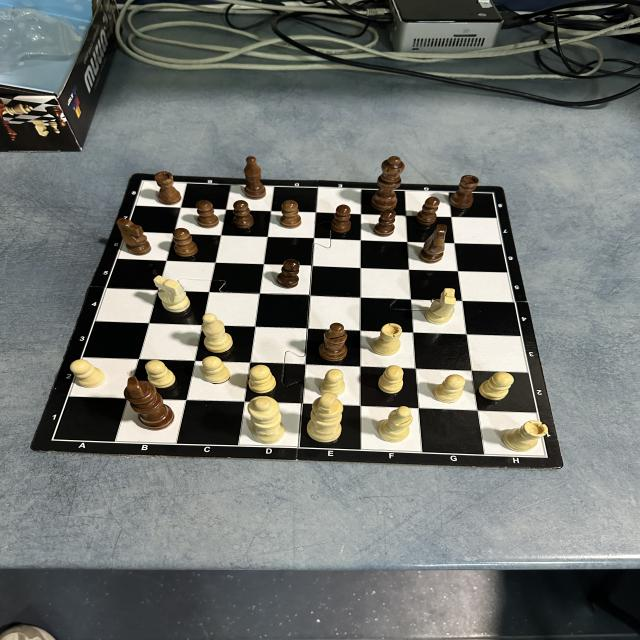Black-Bishop: (318, 322, 348, 362), (244, 156, 267, 200)
Black-King: (124, 376, 175, 431)
Black-Knight: (116, 218, 152, 255), (418, 224, 448, 264)
Black-Pawn: (172, 228, 198, 257), (416, 196, 441, 225), (276, 258, 300, 288), (232, 200, 255, 229), (197, 200, 220, 228), (280, 200, 302, 229), (373, 210, 397, 236), (331, 204, 352, 233)
Black-Queen: (370, 156, 406, 210)
Black-Rook: (448, 175, 480, 209), (154, 171, 182, 205)
White-Bishop: (201, 313, 234, 354), (379, 405, 414, 443)
White-King: (308, 393, 344, 443)
White-Knight: (153, 275, 191, 313), (425, 288, 457, 324)
White-Pawn: (478, 372, 515, 401), (70, 360, 105, 389), (434, 374, 466, 403), (145, 359, 177, 388), (248, 365, 277, 394), (202, 356, 230, 384), (378, 365, 404, 394), (320, 369, 346, 395)
White-Queen: (246, 396, 285, 444)
White-Rook: (502, 420, 549, 451), (371, 323, 402, 356)
